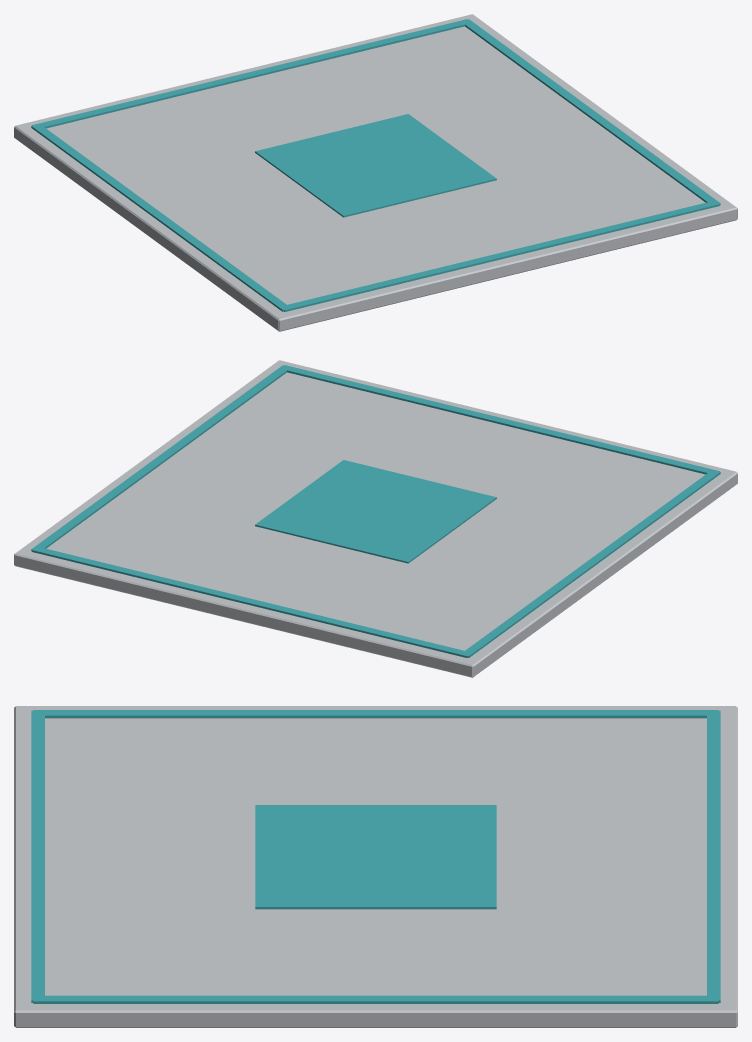
Rendered from pet-shop-and-grooming-salon-salon-floor-tile-ee067d7d__34604.glb.
3 views of the same model, one above another, from view 1: azimuth 30°, elevation 25°; view 2: azimuth 150°, elevation 25°; view 3: azimuth 270°, elevation 25° (orthographic). The views are drawn at different scales.
Parts seen in each view (by area): view 1: salon-floor-tile; view 2: salon-floor-tile; view 3: salon-floor-tile.
Part boxes in pixels (left/top/right/bottom): salon-floor-tile: left=14, top=14, right=737, bottom=331; salon-floor-tile: left=14, top=360, right=737, bottom=677; salon-floor-tile: left=14, top=706, right=737, bottom=1027.
Size of the model in its own units: 1.5 by 0.0459 by 1.5.
